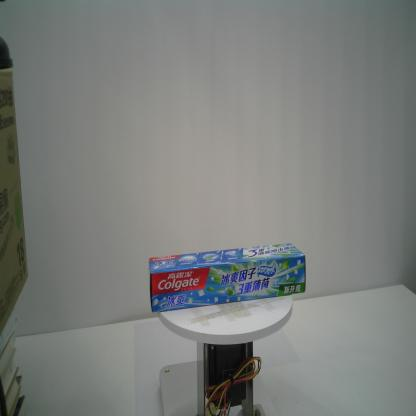Personal Hygiene: (148, 242, 306, 313)
